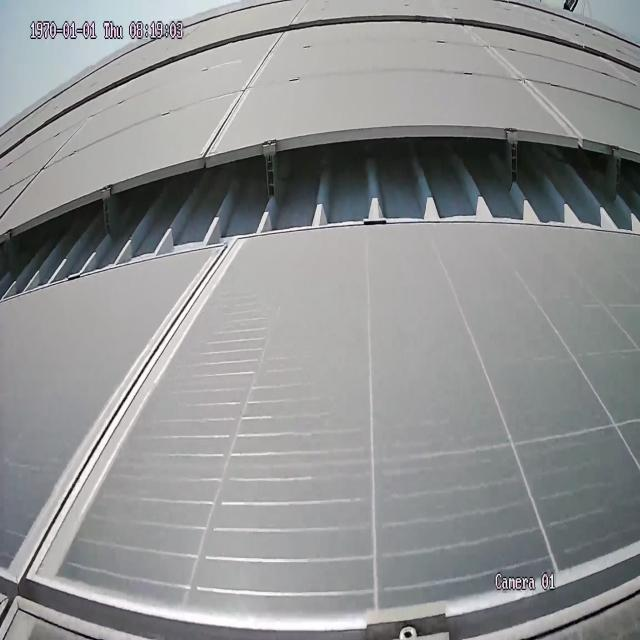interior panel: (0, 528, 640, 640), (19, 269, 226, 569), (469, 34, 563, 123), (204, 47, 283, 147)
outher panel: (5, 115, 640, 298)
